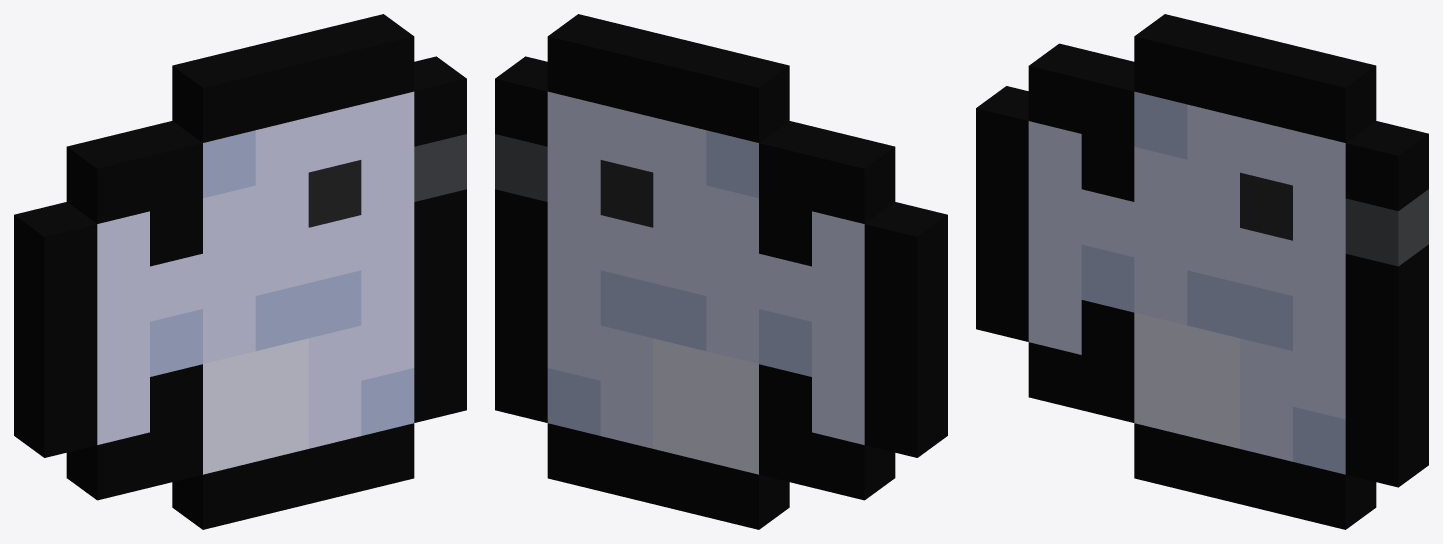
The model's file is Moon Strongfish.glb.
The picture shows the model from 3 angles, left to right: view 1: azimuth 30°, elevation 25°; view 2: azimuth 150°, elevation 25°; view 3: azimuth 330°, elevation 25°; orthographic projection.
Visible parts, largest first — view 1: generated(Clone); view 2: generated(Clone); view 3: generated(Clone).
Part boxes in pixels (x1,y1,x2,y2): generated(Clone): (14,14,466,529); generated(Clone): (495,14,947,529); generated(Clone): (976,14,1428,529).
Bounding box in the file's own units: 8 × 8 × 1.
1 material, 1 textured.
